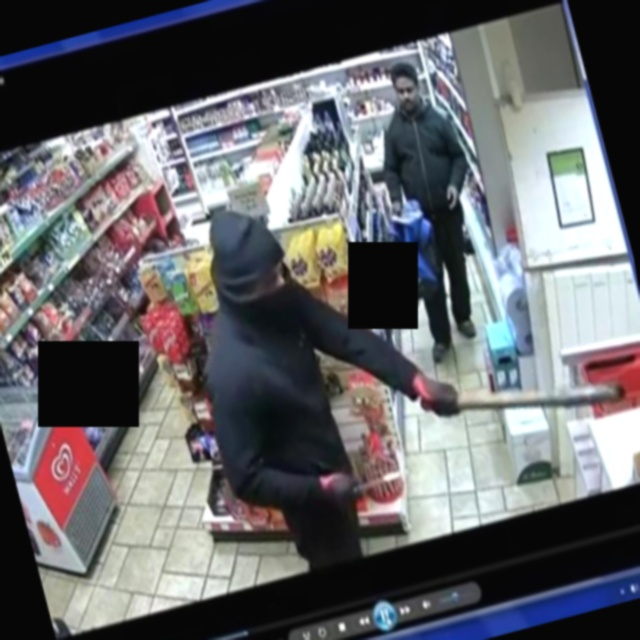gun: (407, 340, 640, 459), (330, 453, 427, 505)
